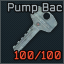Pumping station back door key: (0, 0, 64, 64)
